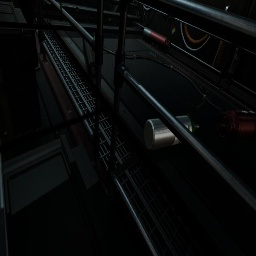0: (144, 115, 199, 150)
NitrogenTank ,: (216, 110, 256, 142), (143, 27, 171, 53)
